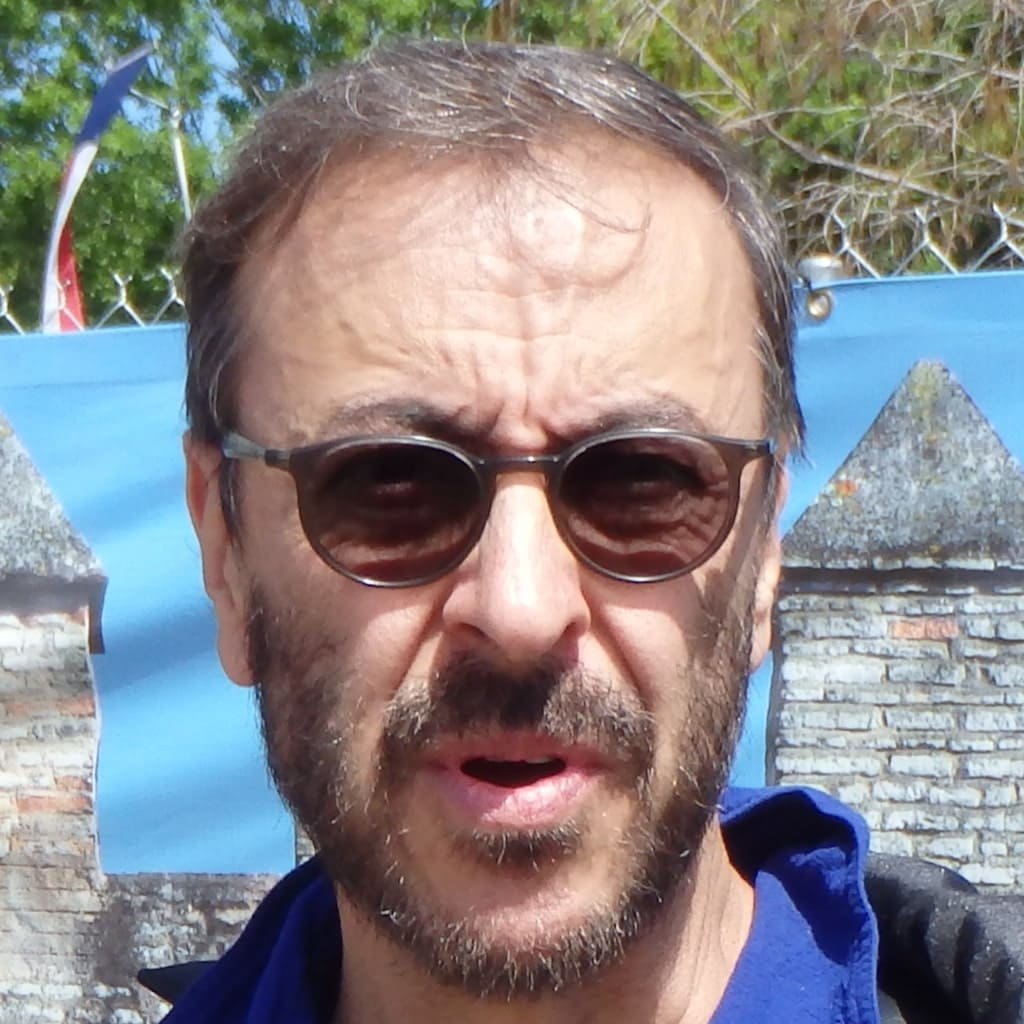without_mask: (232, 209, 751, 893)
